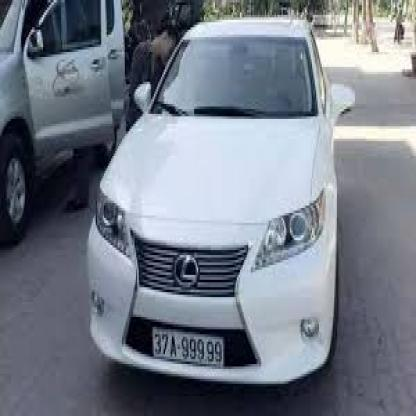biensoxe: (152, 327, 225, 368)
